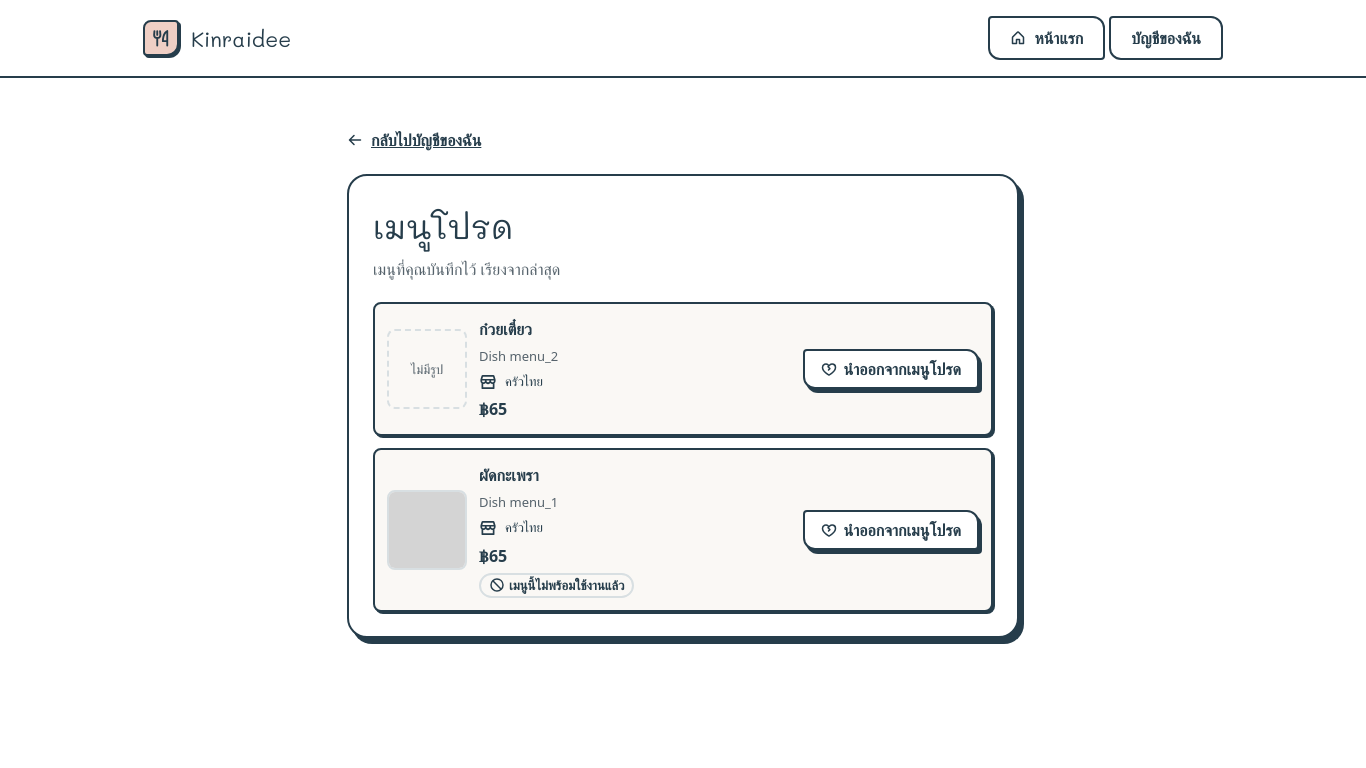
it: FavoritesPage › marks an unavailable favorite in text and lets it be removed
Expected: the list named "รายการเมนูโปรด" is shown, [373,302,993,612]
Expected: the text "เมนูนี้ไม่พร้อมใช้งานแล้ว" is shown, [479,572,634,598]
Click the button "นำออกจากเมนูโปรด" below "Dish menu_1": (891, 530) [804,510,979,550]
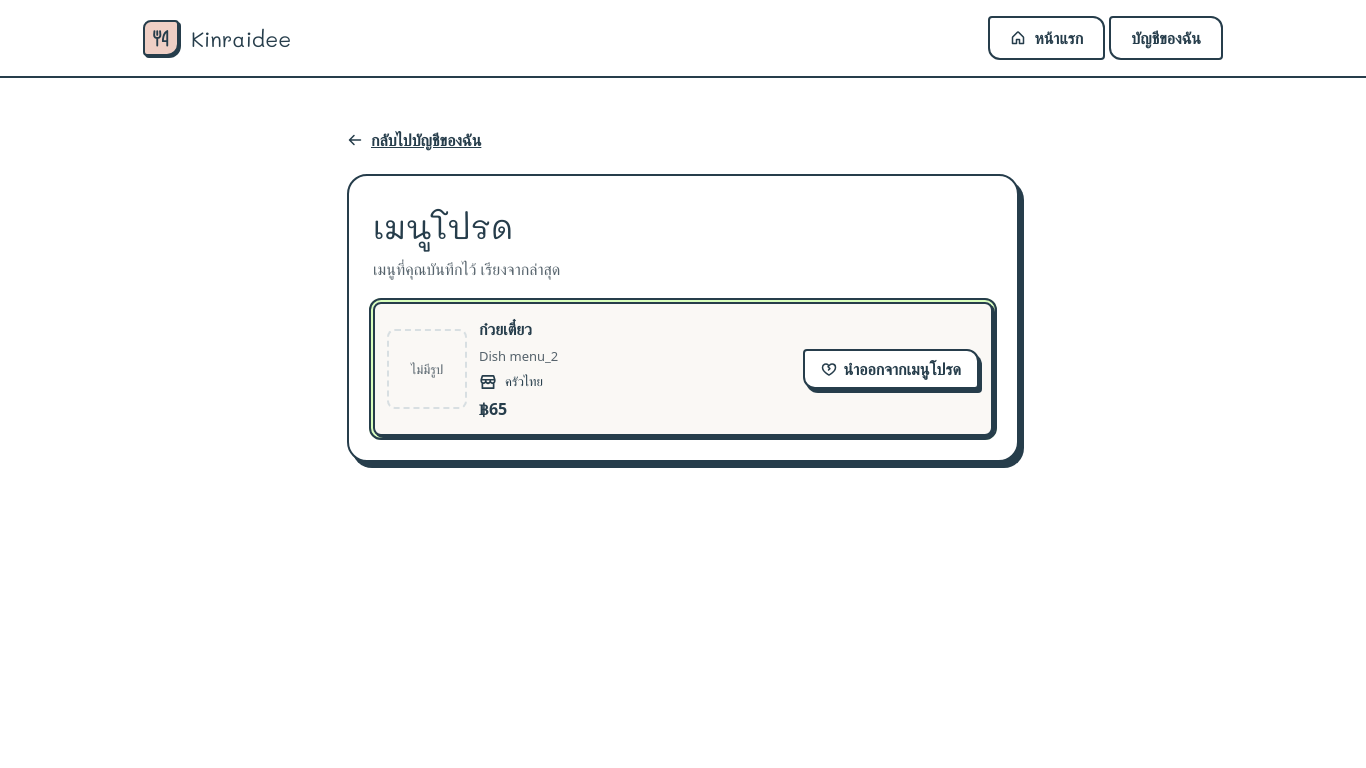
Result: the number of list items is 1 at [373,302,993,436]
